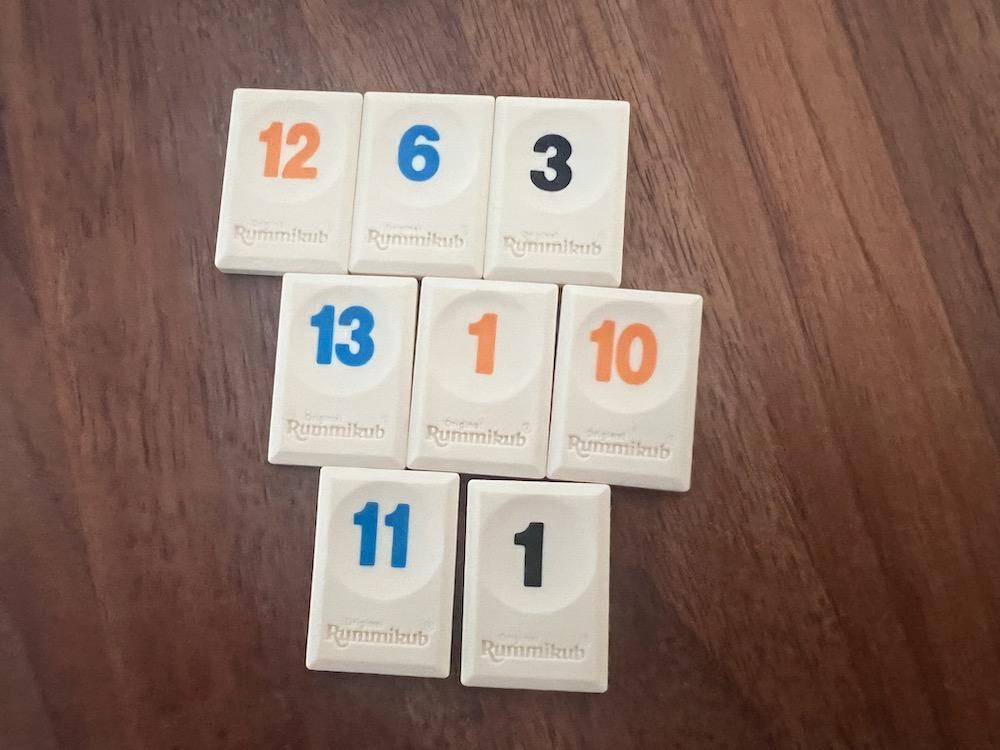black_1: (461, 480, 609, 691)
black_3: (484, 98, 629, 287)
blue_11: (307, 467, 459, 678)
blue_13: (268, 273, 418, 469)
blue_6: (352, 92, 494, 277)
orange_1: (406, 279, 557, 479)
orange_10: (547, 287, 703, 490)
orange_12: (215, 90, 363, 273)
